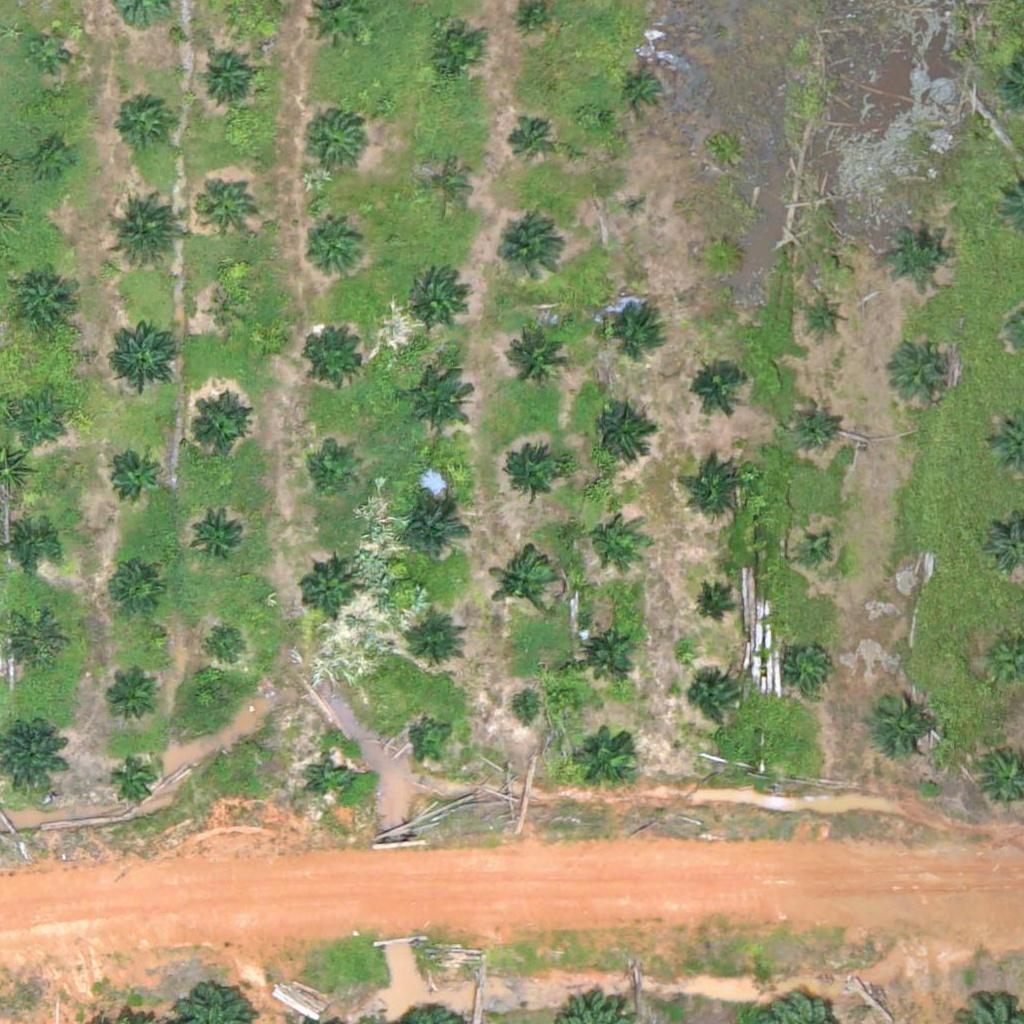Kelapa_Sawit: (496, 445, 571, 521), (399, 364, 474, 440), (492, 217, 567, 293), (500, 319, 575, 395), (867, 687, 942, 763), (488, 547, 563, 623), (104, 198, 179, 273), (106, 312, 181, 387), (397, 496, 472, 571), (897, 338, 960, 401), (886, 222, 949, 285), (601, 294, 664, 357), (186, 396, 249, 459), (191, 503, 254, 566), (578, 724, 641, 787), (405, 614, 468, 677), (577, 619, 640, 682), (297, 562, 360, 625), (9, 272, 71, 335), (111, 89, 173, 152), (687, 456, 749, 519), (194, 46, 256, 109), (686, 356, 748, 419), (304, 326, 366, 389), (590, 402, 653, 464), (407, 268, 469, 331), (424, 23, 486, 86), (302, 110, 364, 173), (306, 221, 368, 284), (196, 175, 258, 238), (5, 612, 67, 675), (11, 399, 61, 450), (106, 450, 156, 501), (110, 563, 160, 614), (410, 712, 460, 763), (304, 754, 354, 805), (203, 621, 253, 672), (505, 116, 555, 167), (6, 521, 56, 571), (586, 511, 636, 561), (305, 444, 355, 494), (105, 674, 155, 724), (687, 674, 737, 724), (787, 641, 837, 691), (789, 400, 839, 450), (420, 161, 470, 211), (111, 755, 161, 805), (619, 64, 669, 114), (806, 298, 844, 336), (796, 536, 834, 574), (505, 690, 543, 728), (703, 238, 741, 276), (35, 143, 72, 181), (691, 587, 728, 625), (210, 292, 247, 330), (30, 31, 67, 68), (519, 2, 544, 28), (623, 192, 648, 217)
